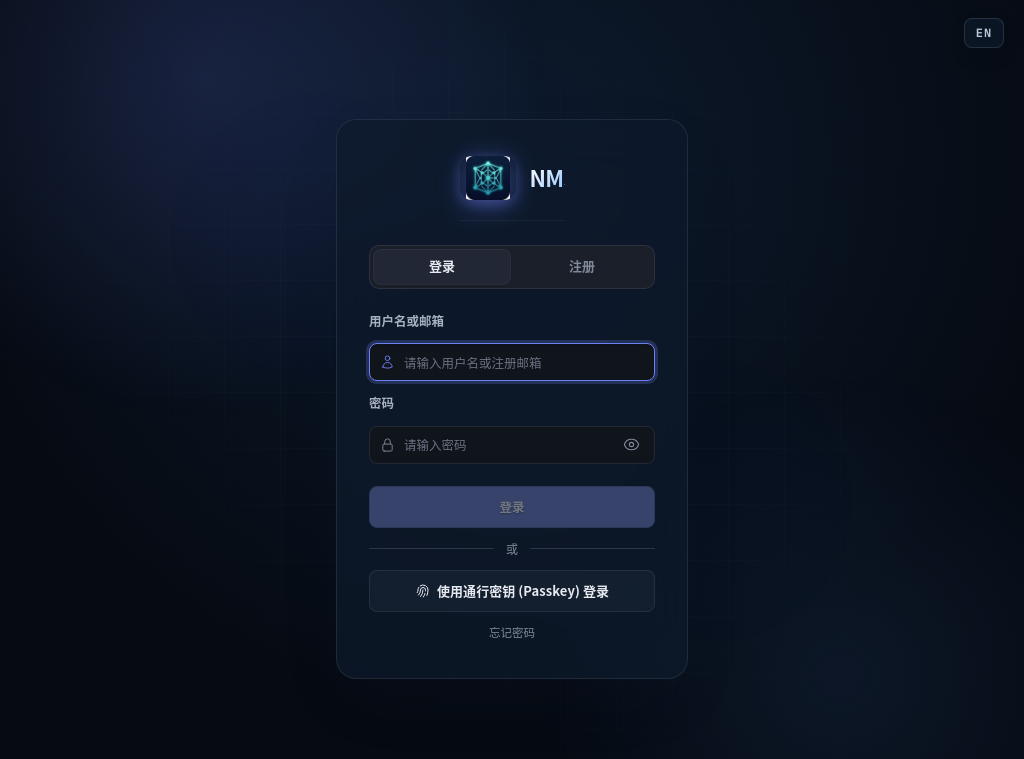
Test: Login › opens the reset-password form only when the server capability is enabled
This screenshot has width=1024, height=759.
What coordinates should you click on to do the following:
click the button "忘记密码"
I would click on:
 (512, 633)
Its box is [489, 624, 535, 642].
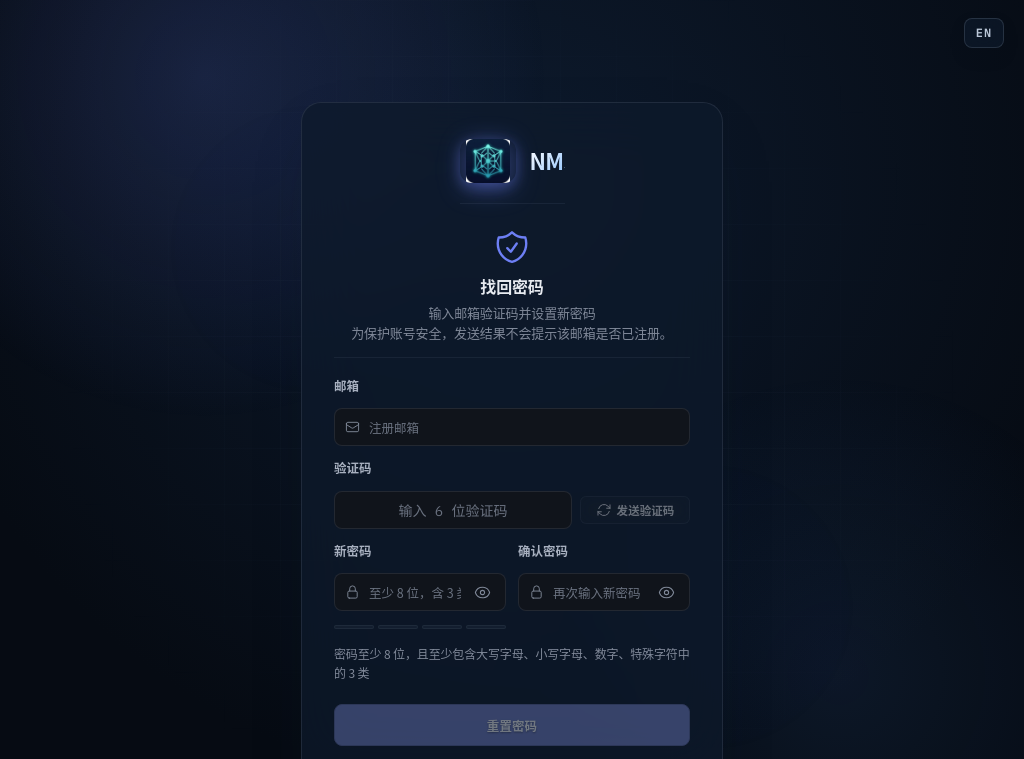
expect the heading "找回密码" is shown: met, box [480, 274, 544, 299]
expect the button "发送验证码" is shown: met, box [580, 496, 690, 524]
